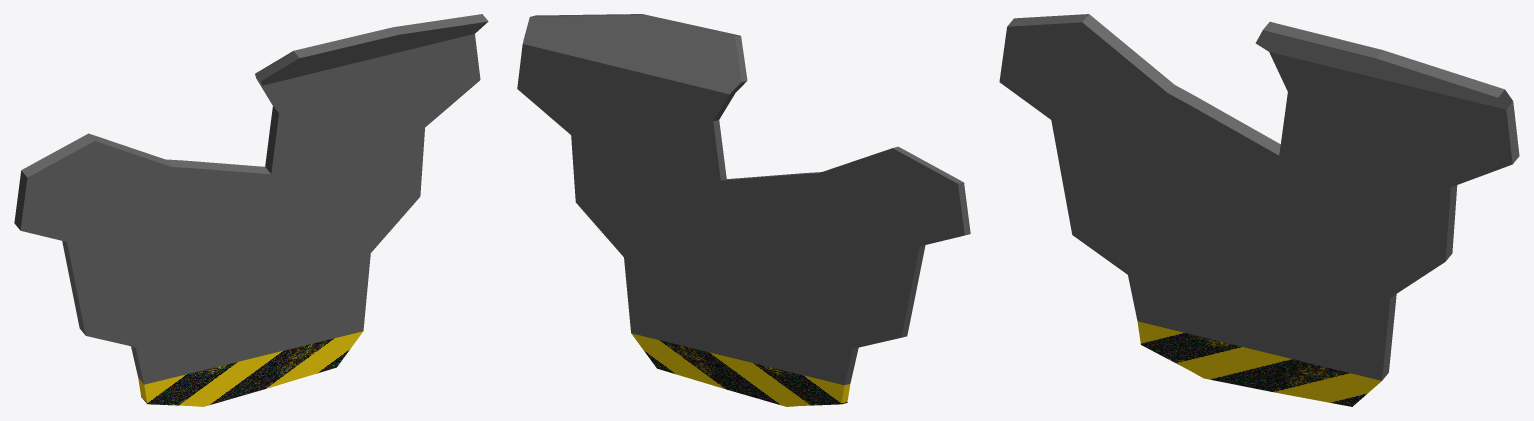
The model's file is cargoWreck05.fbx.
3 views of the same model, side by side, from view 1: azimuth 30°, elevation 25°; view 2: azimuth 150°, elevation 25°; view 3: azimuth 330°, elevation 25° (orthographic). The views are drawn at different scales.
Parts seen in each view (by area): view 1: Cube.064; view 2: Cube.064; view 3: Cube.064.
Part boxes in pixels (x1,y1,x2,y2): Cube.064: (14,14,488,406); Cube.064: (517,14,970,406); Cube.064: (999,14,1519,406).
Bounding box in the file's own units: 243 × 176 × 25.26.
